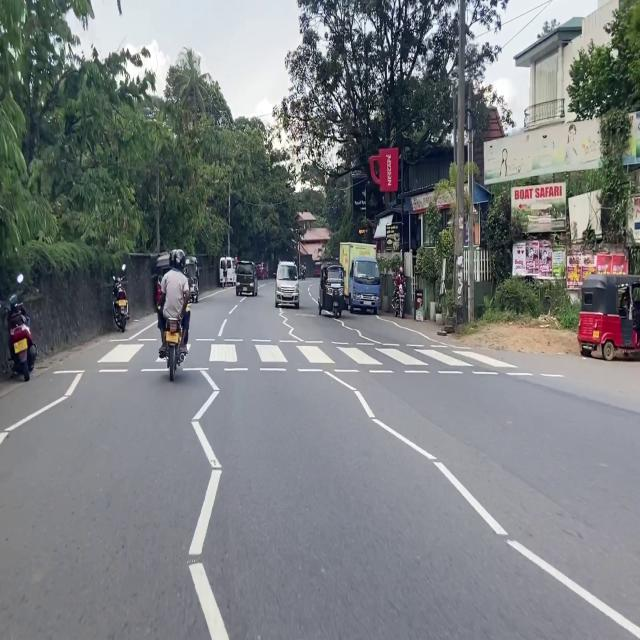car: (275, 262, 299, 308), (236, 261, 257, 296), (219, 256, 236, 286), (256, 264, 268, 279)
motorcycle: (6, 275, 37, 380), (165, 319, 183, 381), (112, 264, 128, 331), (392, 286, 404, 318)
person: (158, 249, 189, 356), (395, 265, 405, 293), (221, 258, 227, 289)
three wheeler: (578, 275, 640, 361), (318, 264, 344, 318), (156, 252, 170, 305), (184, 257, 199, 302)
truck: (340, 242, 380, 315)
